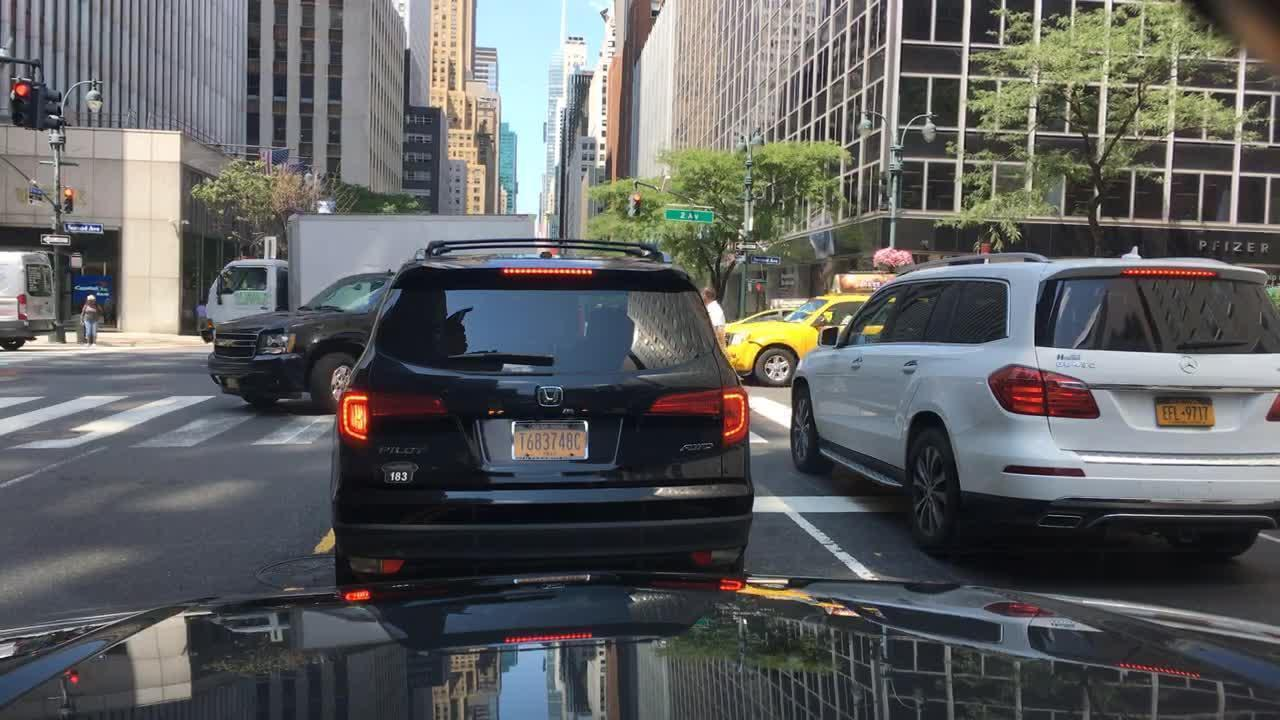Mercedes: (1171, 341, 1214, 381)
